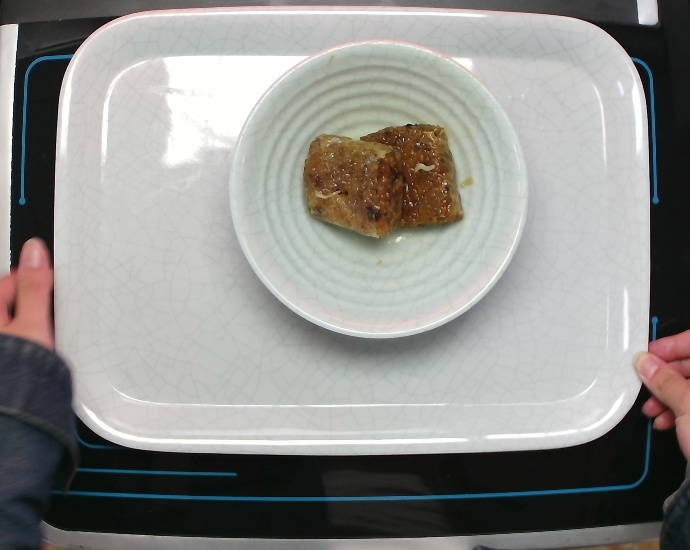JYsf-Xiao_Tang_Wan: (224, 35, 534, 343)
